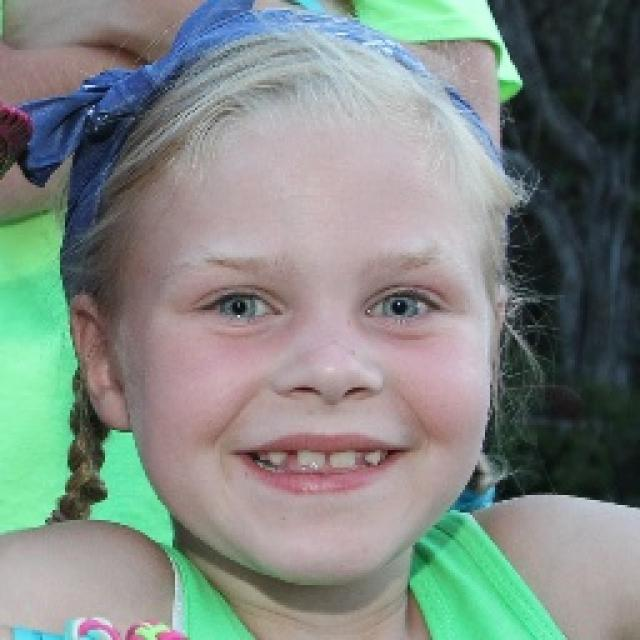earlobe: (66, 291, 131, 435), (488, 284, 511, 396)
